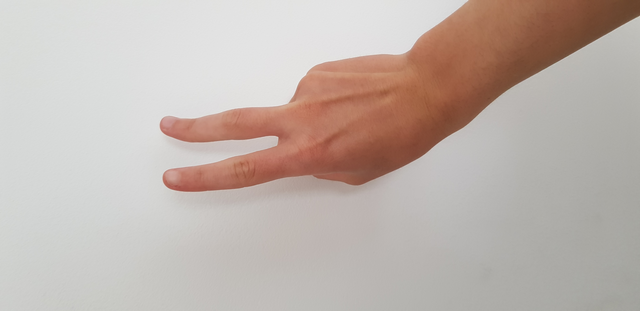Scissors: (139, 54, 468, 211)
